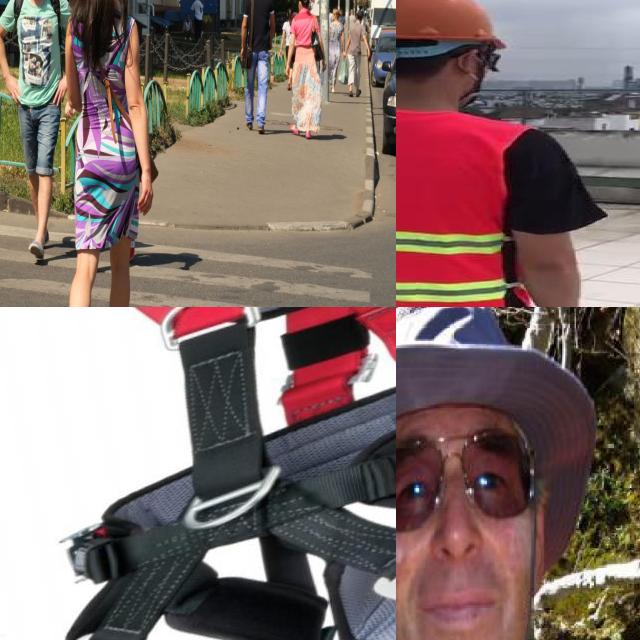Harness: (66, 307, 396, 640)
face_nomask: (396, 429, 524, 640)
glasses: (396, 425, 555, 534)
head_helmet: (396, 0, 604, 307), (396, 0, 518, 49)
head_nohelmet: (396, 307, 576, 444)
vest: (396, 109, 524, 307)
